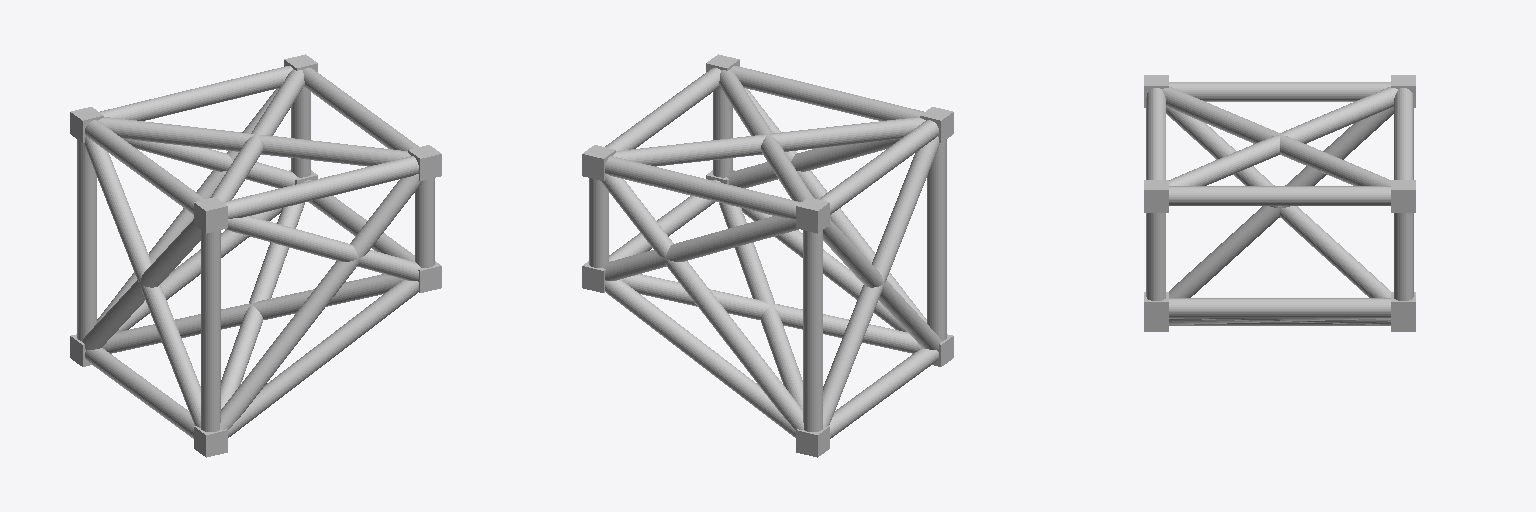
Rendered from construct_halfSlope.obj.
3 views of the same model, side by side, from view 1: azimuth 30°, elevation 25°; view 2: azimuth 150°, elevation 25°; view 3: azimuth 270°, elevation 25° (orthographic).
Visible parts, largest first — view 1: Cube; view 2: Cube; view 3: Cube.
Boxes of the visible parts, x1,y1,x2,y2 form: Cube: [70, 54, 441, 457]; Cube: [582, 54, 953, 457]; Cube: [1144, 75, 1415, 331].
Size of the model in its own units: 1.1 by 1.1 by 1.1.